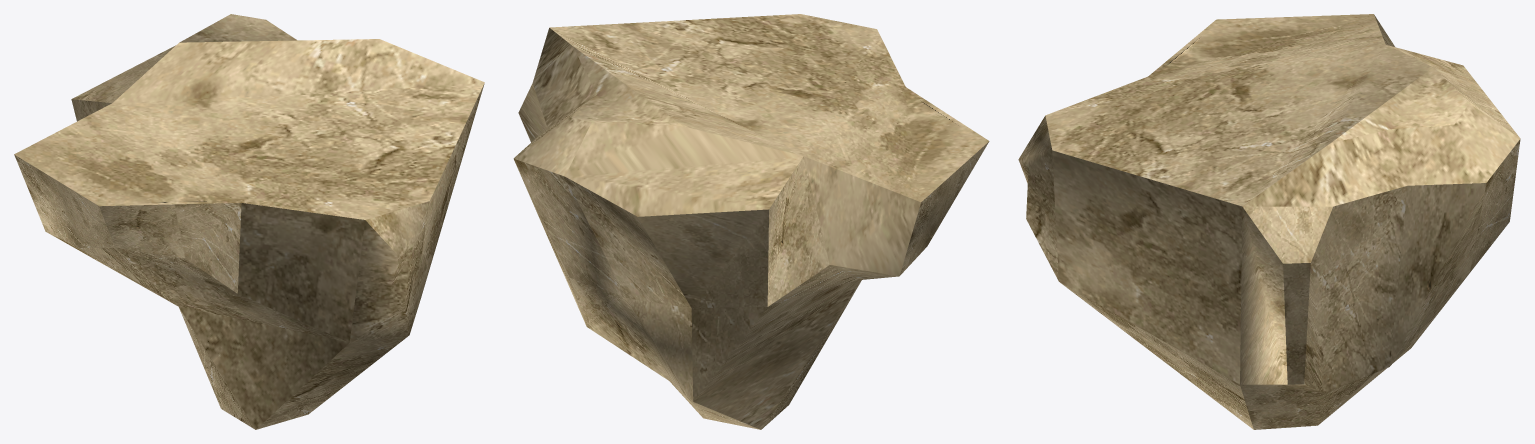
Rendered from geo_desert_02.dae.
3 views of the same model, side by side, from view 1: azimuth 30°, elevation 25°; view 2: azimuth 150°, elevation 25°; view 3: azimuth 270°, elevation 25° (orthographic). The views are drawn at different scales.
Parts seen in each view (by area): view 1: desert_rocks_02-Pivot; view 2: desert_rocks_02-Pivot; view 3: desert_rocks_02-Pivot.
Part boxes in pixels (<box>): desert_rocks_02-Pivot: <box>14,14,484,429</box>; desert_rocks_02-Pivot: <box>513,14,989,429</box>; desert_rocks_02-Pivot: <box>1018,14,1520,429</box>.
Bounding box in the file's own units: 11.79 × 11.84 × 8.9.
